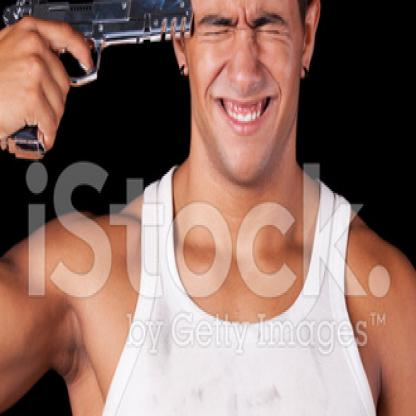gun: (0, 0, 203, 180)
